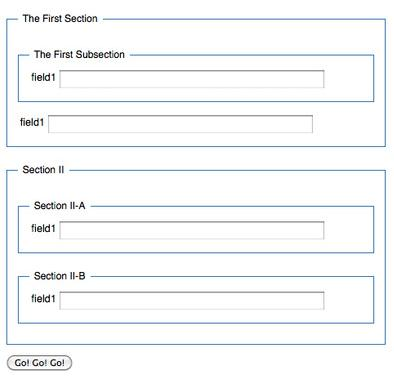button: (6, 355, 72, 372)
field: (56, 290, 325, 311), (58, 69, 326, 90), (46, 114, 314, 135), (57, 221, 326, 240)
field_with_label: (30, 289, 326, 313), (30, 68, 328, 91), (20, 113, 316, 136), (32, 220, 326, 241)
